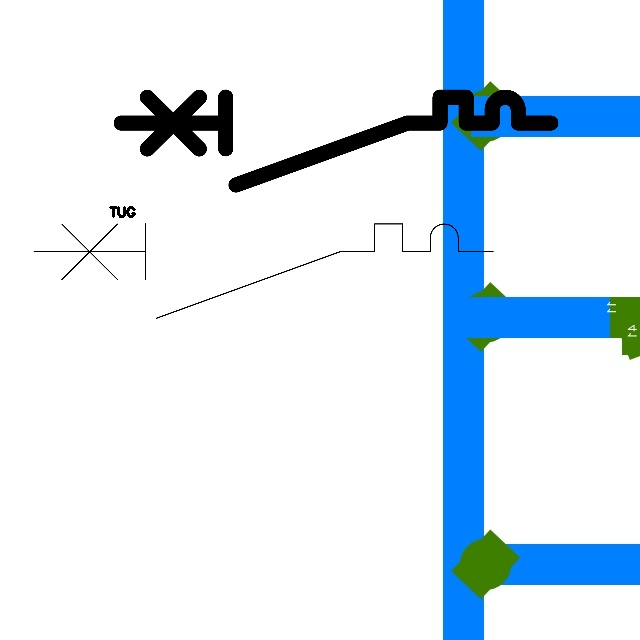interruptor_termomagnetico: (22, 212, 505, 330), (110, 86, 562, 196)
